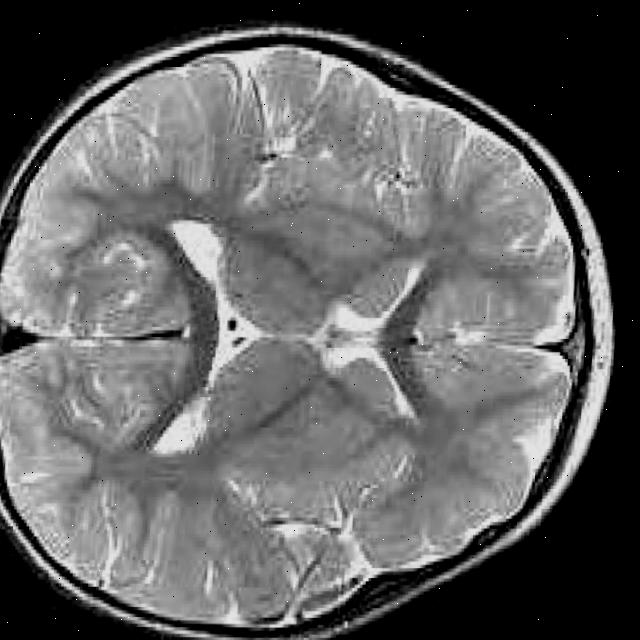NoTumor: (0, 4, 640, 640)
